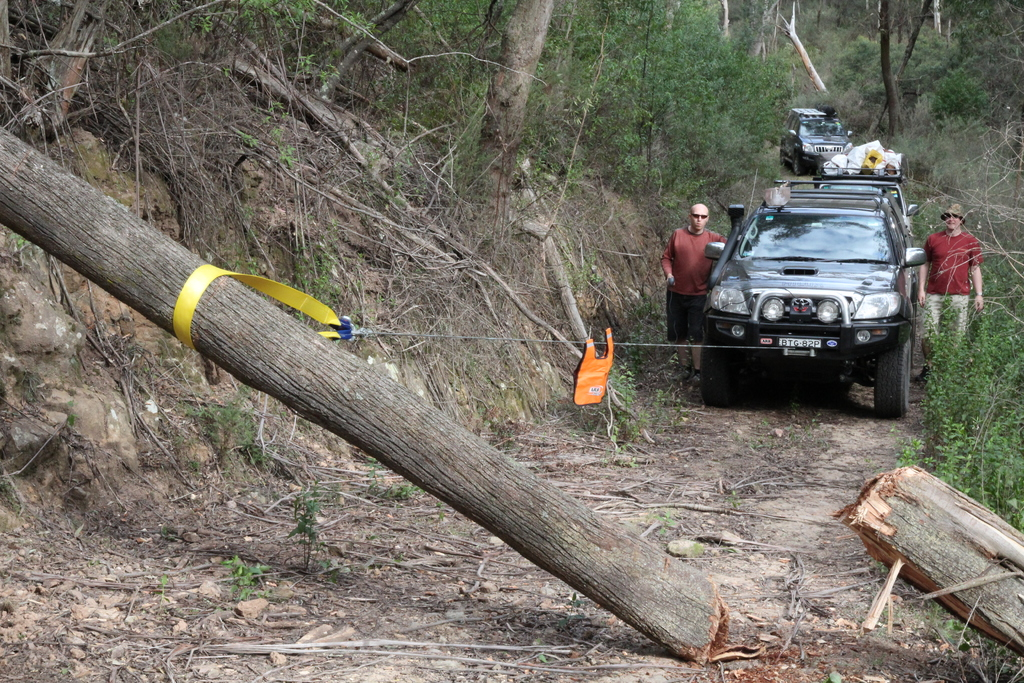Person: (659, 203, 727, 386), (915, 203, 983, 381)
